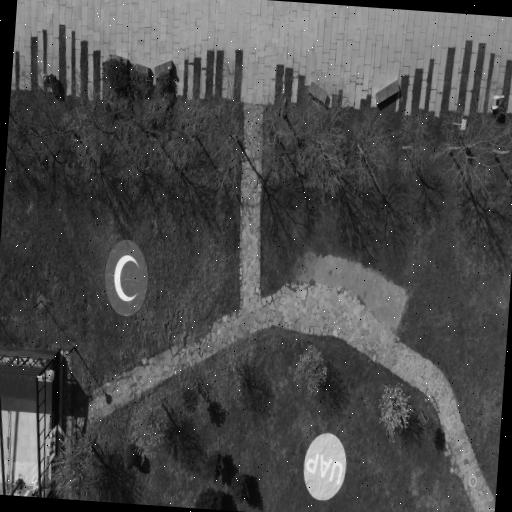UAI: (105, 240, 148, 316)
UAP: (304, 434, 346, 500)
